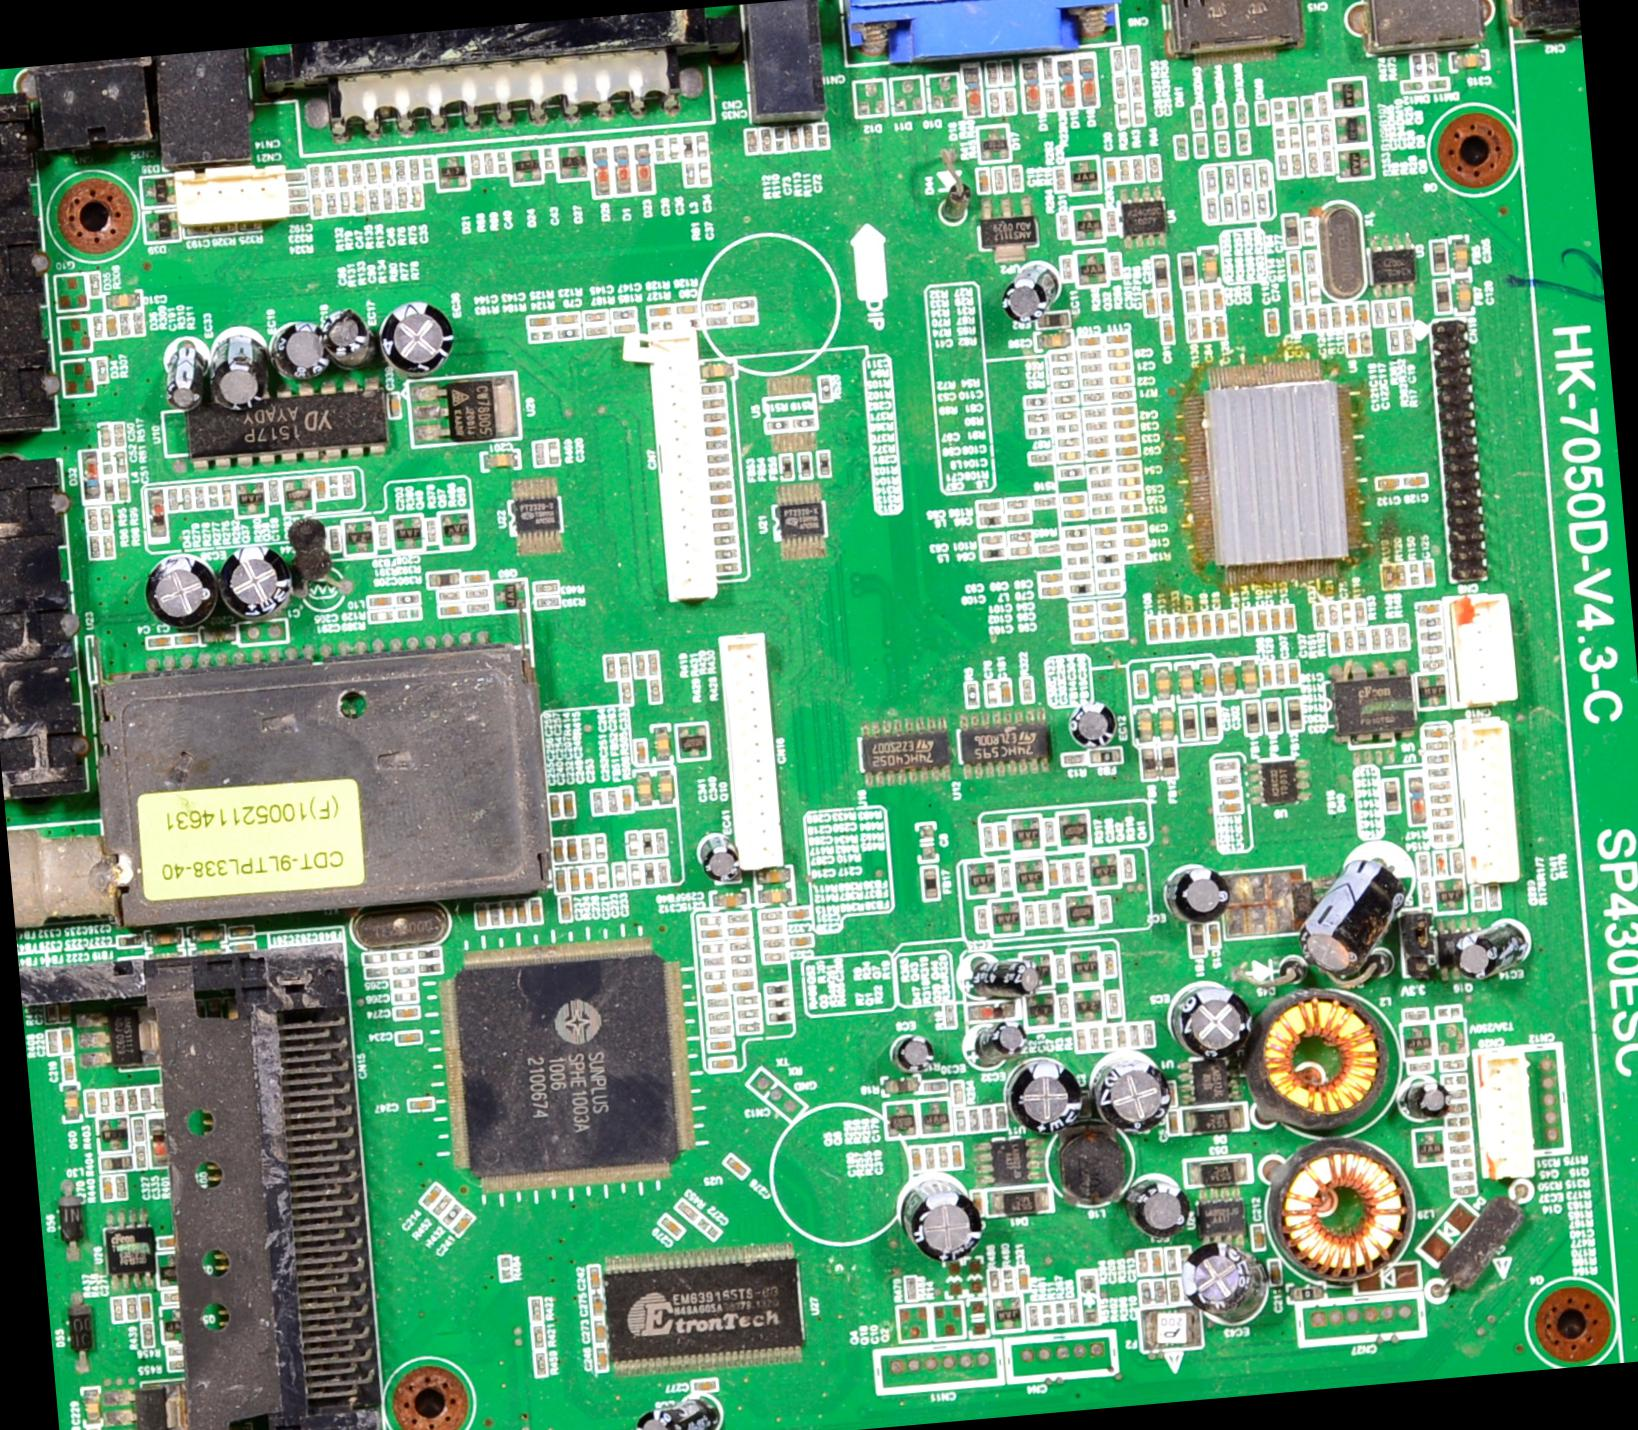Capacitor Jumper: (768, 885, 794, 901), (653, 729, 667, 757), (192, 927, 221, 940), (1203, 668, 1216, 696), (110, 293, 136, 305), (1206, 924, 1220, 946), (1110, 254, 1122, 278), (386, 392, 397, 418), (1207, 252, 1217, 280), (695, 1217, 712, 1233), (1456, 241, 1466, 268), (394, 1032, 418, 1043), (1268, 606, 1280, 628), (1156, 672, 1168, 694), (99, 424, 110, 447), (728, 1160, 746, 1174), (1375, 478, 1396, 490), (594, 1323, 605, 1345), (410, 1096, 430, 1108), (178, 632, 198, 644), (1180, 670, 1190, 694), (1218, 788, 1248, 796), (719, 891, 737, 904), (148, 635, 169, 646), (1100, 1025, 1110, 1048), (588, 1266, 598, 1289), (1150, 1249, 1160, 1272), (762, 868, 785, 878), (711, 1056, 731, 1067), (1254, 1228, 1264, 1250), (815, 125, 826, 145), (1117, 104, 1128, 124), (1142, 292, 1153, 312), (1244, 664, 1254, 686), (1270, 1259, 1279, 1283), (1406, 473, 1424, 485), (661, 1220, 676, 1234), (338, 164, 348, 185), (560, 898, 570, 919), (501, 904, 511, 925), (1141, 715, 1152, 734), (638, 779, 649, 798), (231, 925, 250, 936), (475, 905, 486, 924), (623, 788, 632, 811), (694, 1380, 714, 1390), (556, 314, 576, 324), (1360, 334, 1370, 354), (552, 841, 562, 861), (786, 910, 806, 920), (396, 992, 414, 1003), (736, 979, 754, 990), (1287, 252, 1296, 274), (1000, 681, 1009, 703), (1136, 676, 1147, 694), (1286, 666, 1297, 684), (88, 1392, 96, 1416), (1424, 560, 1432, 584), (397, 1006, 416, 1016), (1106, 161, 1116, 180), (1060, 258, 1070, 277), (978, 503, 997, 513), (1436, 854, 1446, 873), (425, 1183, 436, 1200), (1327, 633, 1338, 650), (1344, 601, 1352, 624), (396, 980, 414, 990), (1114, 1026, 1124, 1044), (952, 1145, 962, 1163), (598, 1350, 608, 1368), (422, 160, 431, 180), (697, 138, 707, 156), (1460, 287, 1470, 305), (714, 494, 732, 504), (442, 605, 462, 614), (1242, 612, 1252, 630), (550, 795, 560, 813), (88, 1090, 96, 1112), (1162, 324, 1173, 340), (1224, 666, 1232, 688), (140, 1297, 149, 1316), (658, 777, 667, 796), (996, 828, 1005, 847), (1106, 332, 1123, 342), (356, 190, 364, 211), (1063, 510, 1084, 518), (1452, 1131, 1470, 1140), (459, 1216, 468, 1234), (287, 170, 305, 179), (382, 162, 391, 180), (912, 1149, 920, 1169), (1464, 54, 1480, 64), (978, 170, 986, 190), (677, 305, 697, 313), (1184, 291, 1192, 311), (1292, 312, 1302, 328), (1146, 620, 1156, 636), (1162, 715, 1170, 735), (584, 872, 594, 888), (1048, 858, 1055, 880), (773, 125, 782, 142), (1332, 307, 1341, 324), (468, 572, 485, 581), (1018, 1267, 1026, 1286), (614, 325, 633, 333), (369, 596, 388, 604), (371, 612, 390, 620), (1188, 616, 1196, 635), (570, 839, 578, 858), (701, 164, 708, 185), (102, 1177, 110, 1195), (313, 197, 322, 213), (1290, 127, 1298, 145), (1307, 127, 1315, 145), (1212, 292, 1221, 308), (1306, 308, 1314, 326), (119, 477, 127, 495), (1120, 462, 1136, 471), (1108, 598, 1120, 610), (1230, 614, 1238, 632), (558, 872, 566, 890), (518, 901, 524, 924), (1198, 292, 1206, 309), (1205, 323, 1213, 340), (316, 480, 324, 497), (570, 871, 578, 888), (729, 925, 746, 933), (984, 533, 999, 542), (563, 796, 572, 811), (497, 154, 504, 173), (637, 743, 644, 762), (656, 138, 662, 160), (532, 898, 538, 920), (594, 1298, 602, 1314), (1160, 292, 1168, 308), (1111, 346, 1127, 354), (1274, 666, 1282, 682), (66, 1057, 73, 1075), (1134, 105, 1141, 123), (1044, 334, 1058, 343), (1268, 314, 1275, 332), (1117, 418, 1131, 427), (794, 936, 808, 945), (1294, 282, 1300, 302), (1062, 496, 1082, 502), (1128, 537, 1140, 547), (1043, 574, 1058, 582), (986, 682, 992, 702), (1400, 301, 1407, 318), (1286, 608, 1292, 627), (670, 138, 677, 154), (532, 317, 548, 324), (736, 316, 750, 324), (708, 428, 724, 435), (1067, 452, 1081, 460), (1124, 486, 1138, 494), (1012, 546, 1026, 554), (1100, 568, 1114, 576), (1418, 602, 1432, 610), (1107, 630, 1121, 638), (1263, 667, 1270, 683), (1222, 803, 1238, 810), (64, 1030, 70, 1048), (1179, 1248, 1188, 1260), (650, 308, 668, 314), (1070, 572, 1088, 578), (1204, 616, 1210, 634), (1425, 730, 1443, 736), (705, 929, 723, 935), (1118, 405, 1133, 412), (1043, 588, 1056, 596), (708, 984, 722, 991), (714, 1040, 728, 1047), (1076, 604, 1090, 611), (1106, 614, 1120, 621), (1176, 620, 1183, 634), (109, 318, 115, 334), (1076, 336, 1092, 342), (1093, 448, 1105, 456), (1010, 514, 1026, 520), (1098, 527, 1110, 535), (1166, 619, 1172, 635), (1216, 616, 1222, 632), (1116, 359, 1126, 368), (1348, 308, 1354, 322), (1348, 336, 1354, 350), (1126, 524, 1138, 531), (1124, 434, 1134, 442), (1124, 446, 1134, 454), (1115, 376, 1128, 382), (1360, 306, 1364, 324), (1122, 477, 1134, 483), (1081, 634, 1092, 640), (238, 944, 249, 950), (1103, 581, 1115, 586), (1260, 614, 1264, 628), (1218, 321, 1222, 334), (1078, 619, 1088, 622)
IC: (456, 961, 678, 1174), (1208, 382, 1346, 568), (612, 1250, 806, 1362), (188, 391, 385, 464), (414, 375, 510, 439), (1334, 680, 1401, 731), (960, 727, 1048, 761), (871, 732, 941, 766), (987, 1140, 1030, 1180), (111, 1228, 148, 1272), (976, 216, 1032, 244), (1123, 201, 1167, 233), (1202, 1198, 1238, 1232), (1262, 764, 1294, 802), (514, 499, 554, 527), (780, 507, 820, 534), (1194, 1062, 1226, 1094), (1379, 248, 1408, 280), (486, 452, 514, 468)
Resistor Jumper: (942, 1007, 955, 1028), (588, 794, 602, 813), (84, 509, 96, 531), (676, 1200, 692, 1216), (985, 64, 997, 85), (1450, 852, 1462, 873), (1054, 958, 1064, 983), (992, 168, 1003, 190), (955, 1078, 965, 1102), (95, 357, 105, 381), (376, 524, 388, 544), (114, 1177, 125, 1198), (1148, 156, 1159, 177), (104, 1157, 127, 1167), (1056, 994, 1067, 1014), (1436, 1004, 1456, 1015), (484, 153, 494, 175), (134, 311, 144, 333), (113, 425, 124, 445), (99, 508, 110, 528), (606, 656, 616, 678), (1398, 630, 1408, 652), (605, 790, 615, 812), (986, 94, 998, 112), (612, 865, 624, 883), (703, 316, 724, 326), (701, 384, 722, 394), (1418, 855, 1428, 876), (646, 653, 657, 672), (370, 968, 396, 976), (1030, 454, 1047, 466), (1488, 886, 1498, 906), (1206, 172, 1216, 192), (532, 582, 552, 592), (469, 604, 489, 614), (653, 832, 663, 852), (978, 910, 988, 930), (747, 128, 756, 150), (396, 609, 418, 618), (652, 682, 662, 701), (1115, 77, 1124, 98), (311, 166, 320, 187), (323, 166, 332, 187), (658, 862, 667, 883), (587, 328, 610, 336), (1081, 436, 1104, 444), (96, 1088, 105, 1108), (1077, 1030, 1086, 1050), (133, 1120, 143, 1138), (996, 1108, 1005, 1128), (1446, 1086, 1464, 1096), (1030, 1304, 1039, 1324), (366, 164, 376, 182), (800, 128, 809, 148), (1374, 306, 1384, 324), (707, 440, 727, 449), (632, 654, 642, 672), (392, 948, 412, 957), (534, 1297, 542, 1319), (1119, 159, 1127, 181), (1291, 154, 1299, 176), (1223, 168, 1231, 190), (598, 866, 606, 888), (969, 1110, 978, 1129), (906, 1276, 915, 1295), (1122, 858, 1132, 875), (419, 950, 436, 960), (1138, 1252, 1146, 1273), (395, 160, 403, 181), (1012, 168, 1020, 189), (221, 483, 229, 504), (924, 1080, 942, 1089), (1452, 1157, 1470, 1166), (1452, 1171, 1470, 1180), (533, 1328, 542, 1346), (1167, 1282, 1176, 1300), (1004, 90, 1013, 108), (289, 204, 307, 213), (1275, 130, 1284, 148), (678, 320, 696, 329), (440, 591, 458, 600), (142, 1325, 149, 1348), (1132, 1024, 1140, 1044), (1406, 1009, 1422, 1019), (936, 1149, 946, 1165), (1142, 1281, 1150, 1301), (1068, 1303, 1076, 1323), (1001, 63, 1009, 83), (757, 130, 765, 150), (384, 188, 392, 208), (410, 187, 418, 207), (530, 334, 550, 342), (182, 488, 190, 508), (331, 528, 339, 548), (1022, 678, 1030, 698), (631, 833, 639, 853), (582, 840, 590, 860), (629, 864, 637, 884), (1058, 865, 1068, 881), (1048, 902, 1056, 922), (706, 945, 728, 952), (739, 1008, 756, 1017), (287, 186, 304, 195), (114, 1300, 122, 1319), (353, 166, 361, 185), (1135, 158, 1143, 177), (1306, 222, 1314, 241), (1310, 280, 1318, 299), (822, 377, 830, 396), (194, 488, 202, 507), (1028, 428, 1047, 436), (398, 594, 417, 602), (534, 598, 553, 606), (1429, 794, 1448, 802), (502, 1256, 509, 1277), (1242, 166, 1249, 187), (709, 1010, 727, 1018), (1111, 988, 1117, 1012), (140, 1090, 149, 1106), (1088, 1029, 1096, 1047), (1144, 1026, 1152, 1044), (138, 1149, 147, 1165), (989, 1270, 997, 1288), (1152, 1281, 1160, 1299), (1425, 54, 1433, 72), (1310, 152, 1318, 170), (1322, 152, 1330, 170), (1259, 166, 1267, 184), (1088, 478, 1104, 487), (623, 684, 631, 702), (1063, 754, 1081, 762), (596, 837, 604, 855), (732, 943, 750, 951), (1128, 504, 1142, 514), (620, 656, 627, 676), (700, 913, 714, 923), (362, 954, 382, 961), (731, 966, 748, 974), (370, 191, 378, 208), (397, 189, 405, 206), (344, 474, 352, 491), (1422, 632, 1439, 640), (1404, 332, 1413, 347), (1450, 1145, 1469, 1152), (472, 154, 478, 176), (710, 996, 726, 1004), (739, 994, 755, 1002), (153, 1090, 161, 1106), (924, 1148, 932, 1164), (1114, 52, 1122, 68), (1320, 126, 1328, 142), (89, 274, 97, 290), (1224, 199, 1232, 215), (614, 310, 630, 318), (1306, 256, 1314, 272), (710, 454, 726, 462), (466, 588, 482, 596), (1216, 757, 1232, 765), (1026, 907, 1034, 923), (1043, 1307, 1050, 1325), (102, 538, 109, 556), (427, 520, 434, 538), (716, 521, 730, 530), (1042, 544, 1056, 553), (1385, 566, 1392, 584), (710, 1024, 725, 1032), (1406, 1064, 1426, 1070), (1457, 1184, 1472, 1192), (170, 488, 176, 508), (1046, 824, 1054, 839), (490, 904, 496, 924), (118, 452, 125, 469), (1437, 832, 1454, 839), (1035, 496, 1048, 505), (126, 1091, 132, 1110), (984, 1109, 990, 1128), (1005, 1268, 1011, 1287), (686, 164, 692, 183), (1280, 156, 1286, 175), (1258, 197, 1264, 216), (704, 304, 723, 310), (207, 487, 213, 506), (270, 483, 276, 502), (1423, 884, 1430, 900), (113, 1090, 120, 1106), (1446, 1060, 1462, 1067), (1446, 1075, 1462, 1082), (586, 312, 600, 320), (1060, 428, 1074, 436), (1095, 506, 1109, 514), (718, 550, 732, 558), (1385, 628, 1392, 644), (1428, 743, 1444, 750), (1430, 768, 1444, 776), (729, 915, 743, 923), (1038, 906, 1046, 920), (763, 941, 779, 948), (958, 1112, 964, 1130), (410, 160, 416, 178), (344, 193, 350, 211), (121, 314, 127, 332), (90, 538, 96, 556), (1410, 562, 1416, 580), (1425, 659, 1443, 665), (127, 1301, 134, 1316), (1133, 78, 1140, 93), (1051, 368, 1066, 375), (1429, 780, 1444, 787), (760, 914, 781, 919), (723, 564, 736, 572), (1209, 200, 1215, 217), (1242, 198, 1248, 215), (1085, 409, 1102, 415), (332, 478, 338, 495), (1216, 776, 1233, 782), (1074, 866, 1080, 883), (1086, 424, 1106, 429), (968, 684, 973, 704), (422, 963, 442, 968), (1060, 408, 1069, 419), (740, 1024, 754, 1031), (714, 481, 728, 488), (1422, 617, 1436, 624), (770, 953, 782, 961), (1104, 955, 1110, 971), (1450, 1104, 1466, 1110), (438, 1200, 446, 1212), (168, 1344, 180, 1352), (1057, 1304, 1063, 1320), (1132, 51, 1138, 67), (1414, 56, 1420, 72), (734, 302, 750, 308), (650, 323, 666, 329), (1082, 352, 1098, 358), (1390, 330, 1396, 346), (1394, 564, 1400, 580), (1447, 1119, 1466, 1124), (540, 1356, 546, 1371), (1318, 97, 1324, 112), (95, 318, 101, 333), (1356, 603, 1362, 618), (1390, 304, 1396, 318), (1054, 356, 1068, 362), (1082, 365, 1096, 371), (1084, 380, 1096, 387), (709, 414, 721, 421), (1029, 399, 1041, 406), (1060, 438, 1074, 444), (713, 470, 727, 476), (1060, 469, 1074, 475), (714, 510, 728, 516), (720, 537, 732, 544), (1072, 541, 1084, 548), (1374, 630, 1380, 644), (766, 928, 780, 934), (790, 129, 795, 145), (1436, 809, 1452, 814), (1169, 1250, 1173, 1269), (398, 963, 413, 968), (166, 1362, 178, 1368), (708, 402, 720, 408), (1060, 396, 1072, 402), (1008, 500, 1020, 506), (1016, 534, 1028, 540), (986, 830, 991, 844), (1438, 822, 1452, 827), (449, 1204, 453, 1221), (733, 956, 746, 961), (1116, 391, 1129, 396), (560, 332, 576, 336), (1360, 632, 1364, 648), (1424, 648, 1440, 652), (708, 971, 720, 976), (330, 195, 334, 210), (1096, 492, 1106, 498), (1350, 633, 1354, 648), (1086, 396, 1100, 400), (1430, 758, 1444, 762), (1058, 384, 1070, 388), (1032, 412, 1040, 418), (710, 956, 720, 960)
Transistor: (676, 720, 706, 755), (1326, 78, 1358, 110), (1068, 944, 1098, 978), (558, 144, 588, 178), (1072, 210, 1103, 240), (343, 520, 371, 552), (1067, 155, 1094, 188), (1418, 674, 1447, 704), (978, 126, 1003, 160), (440, 516, 469, 545), (438, 154, 463, 187), (1076, 253, 1103, 283), (1090, 855, 1115, 886), (1028, 952, 1052, 983), (98, 1120, 124, 1148), (234, 483, 256, 514), (922, 1102, 945, 1130), (1418, 1130, 1439, 1160), (515, 145, 533, 180), (1067, 896, 1091, 922), (398, 516, 418, 546), (281, 482, 304, 508), (1438, 884, 1462, 908), (1407, 1026, 1426, 1056), (159, 1252, 178, 1282), (499, 582, 522, 606), (891, 1106, 911, 1132), (1017, 818, 1038, 842), (998, 904, 1018, 929), (1342, 119, 1363, 142), (970, 865, 993, 886), (1080, 994, 1100, 1018), (162, 1310, 181, 1335), (1064, 818, 1082, 842), (1030, 998, 1048, 1020), (1349, 152, 1366, 174), (1021, 864, 1036, 888)
